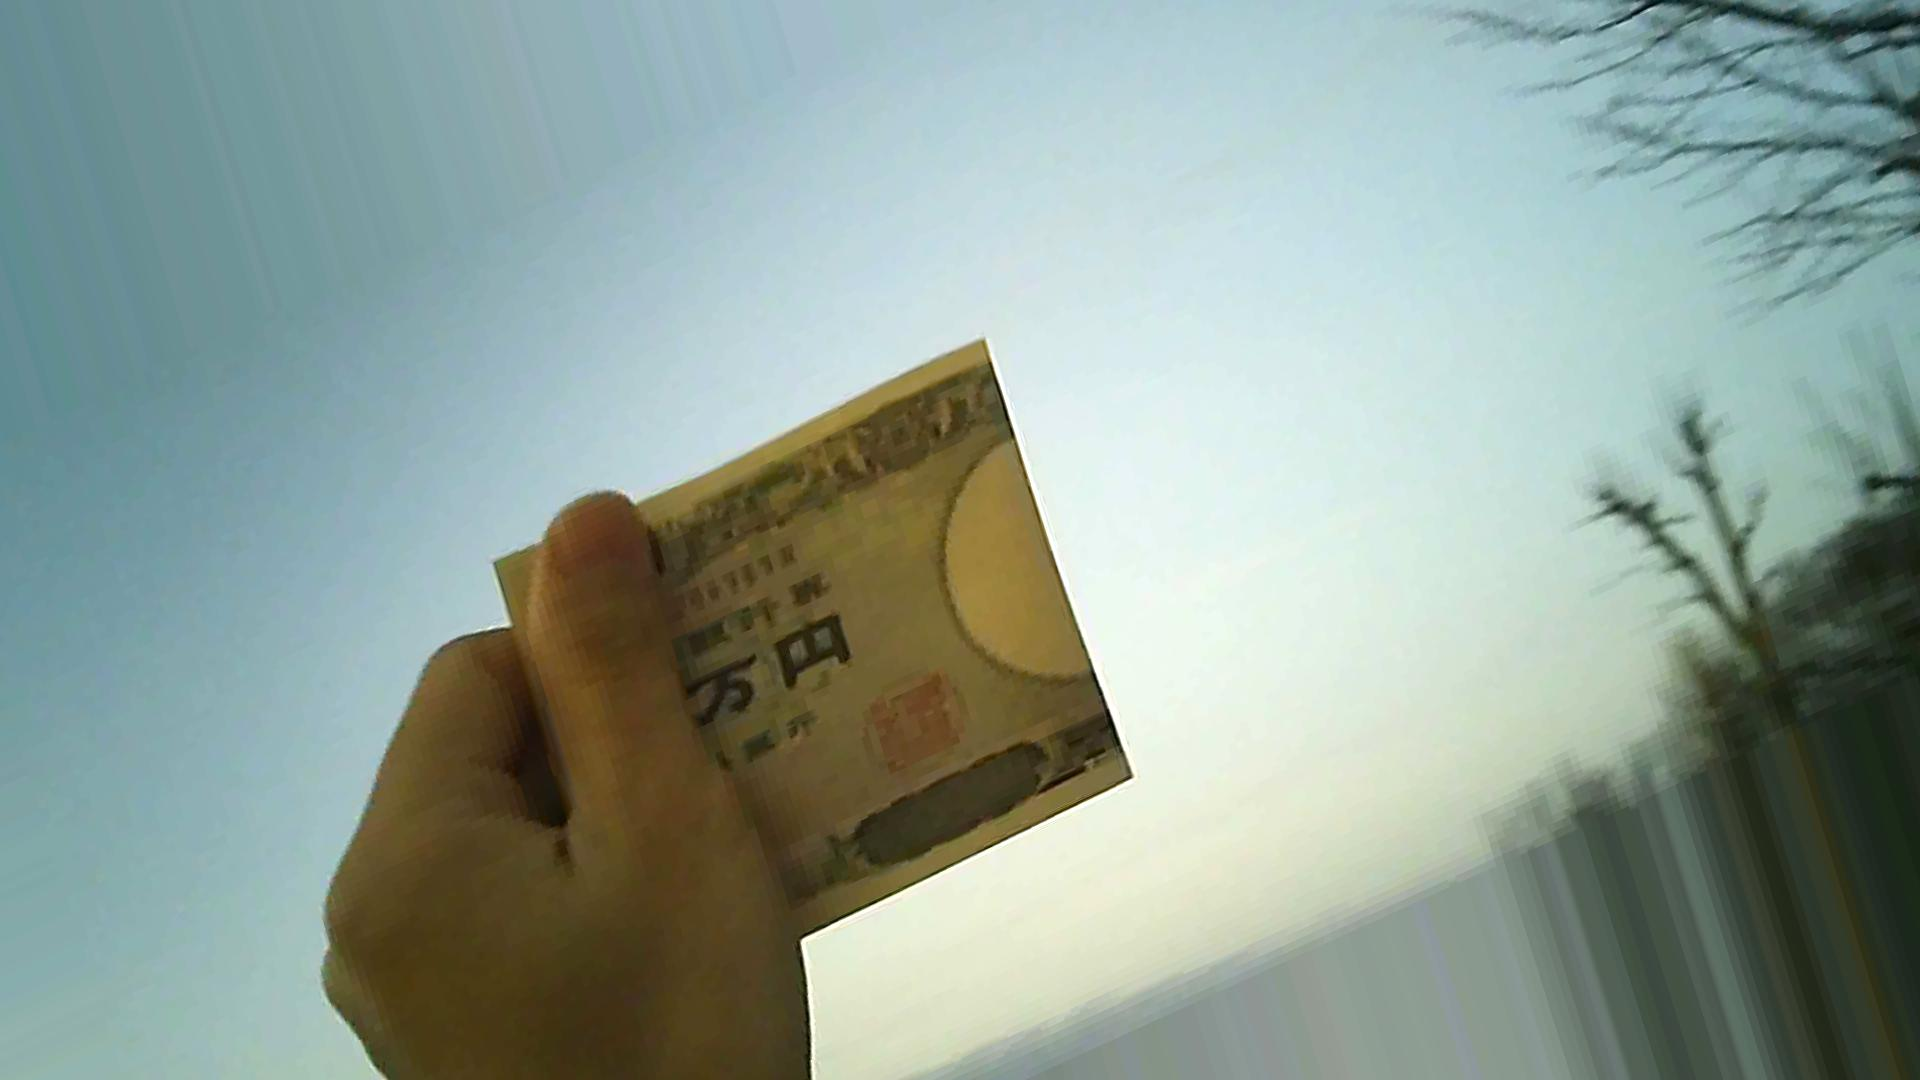10,000 Yen: (473, 322, 1180, 1006)
